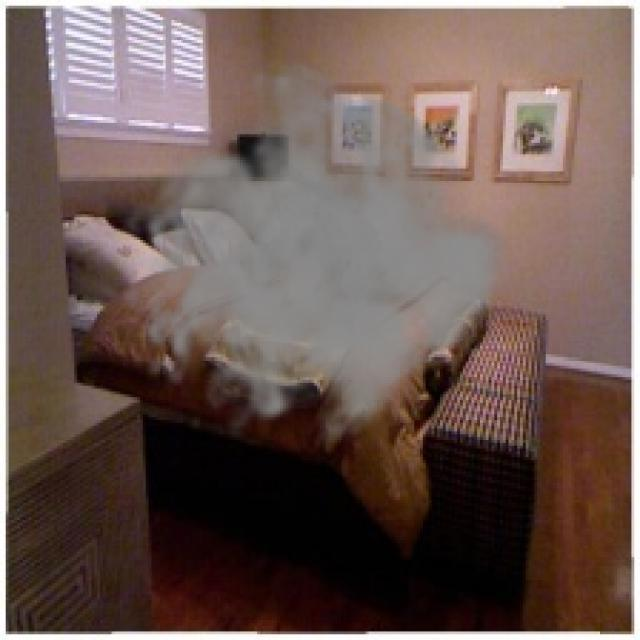smoke: (120, 54, 511, 460)
